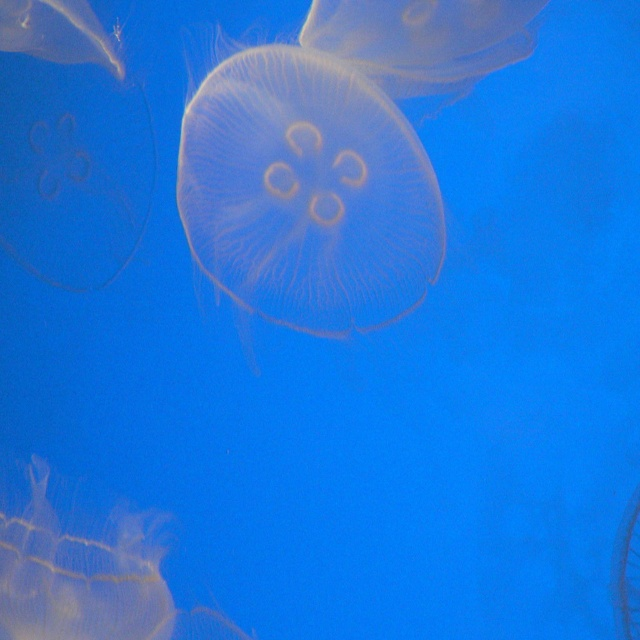Jellyfish: (168, 33, 451, 347), (0, 47, 159, 302), (0, 455, 172, 639), (296, 0, 551, 107), (0, 0, 123, 81)
